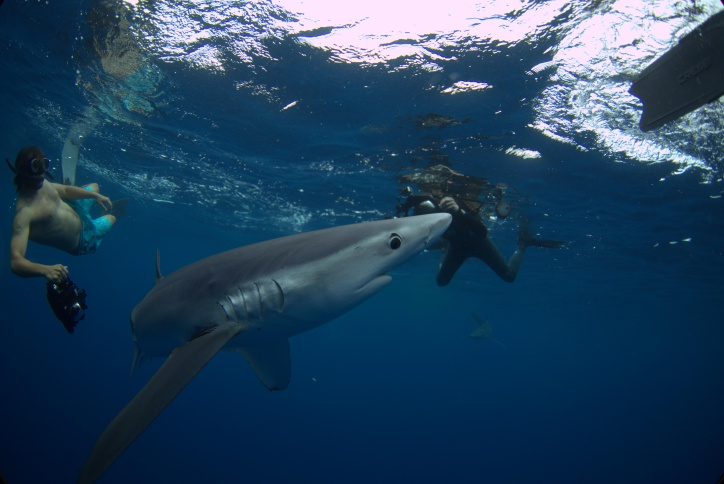Azul: (77, 202, 433, 484)
